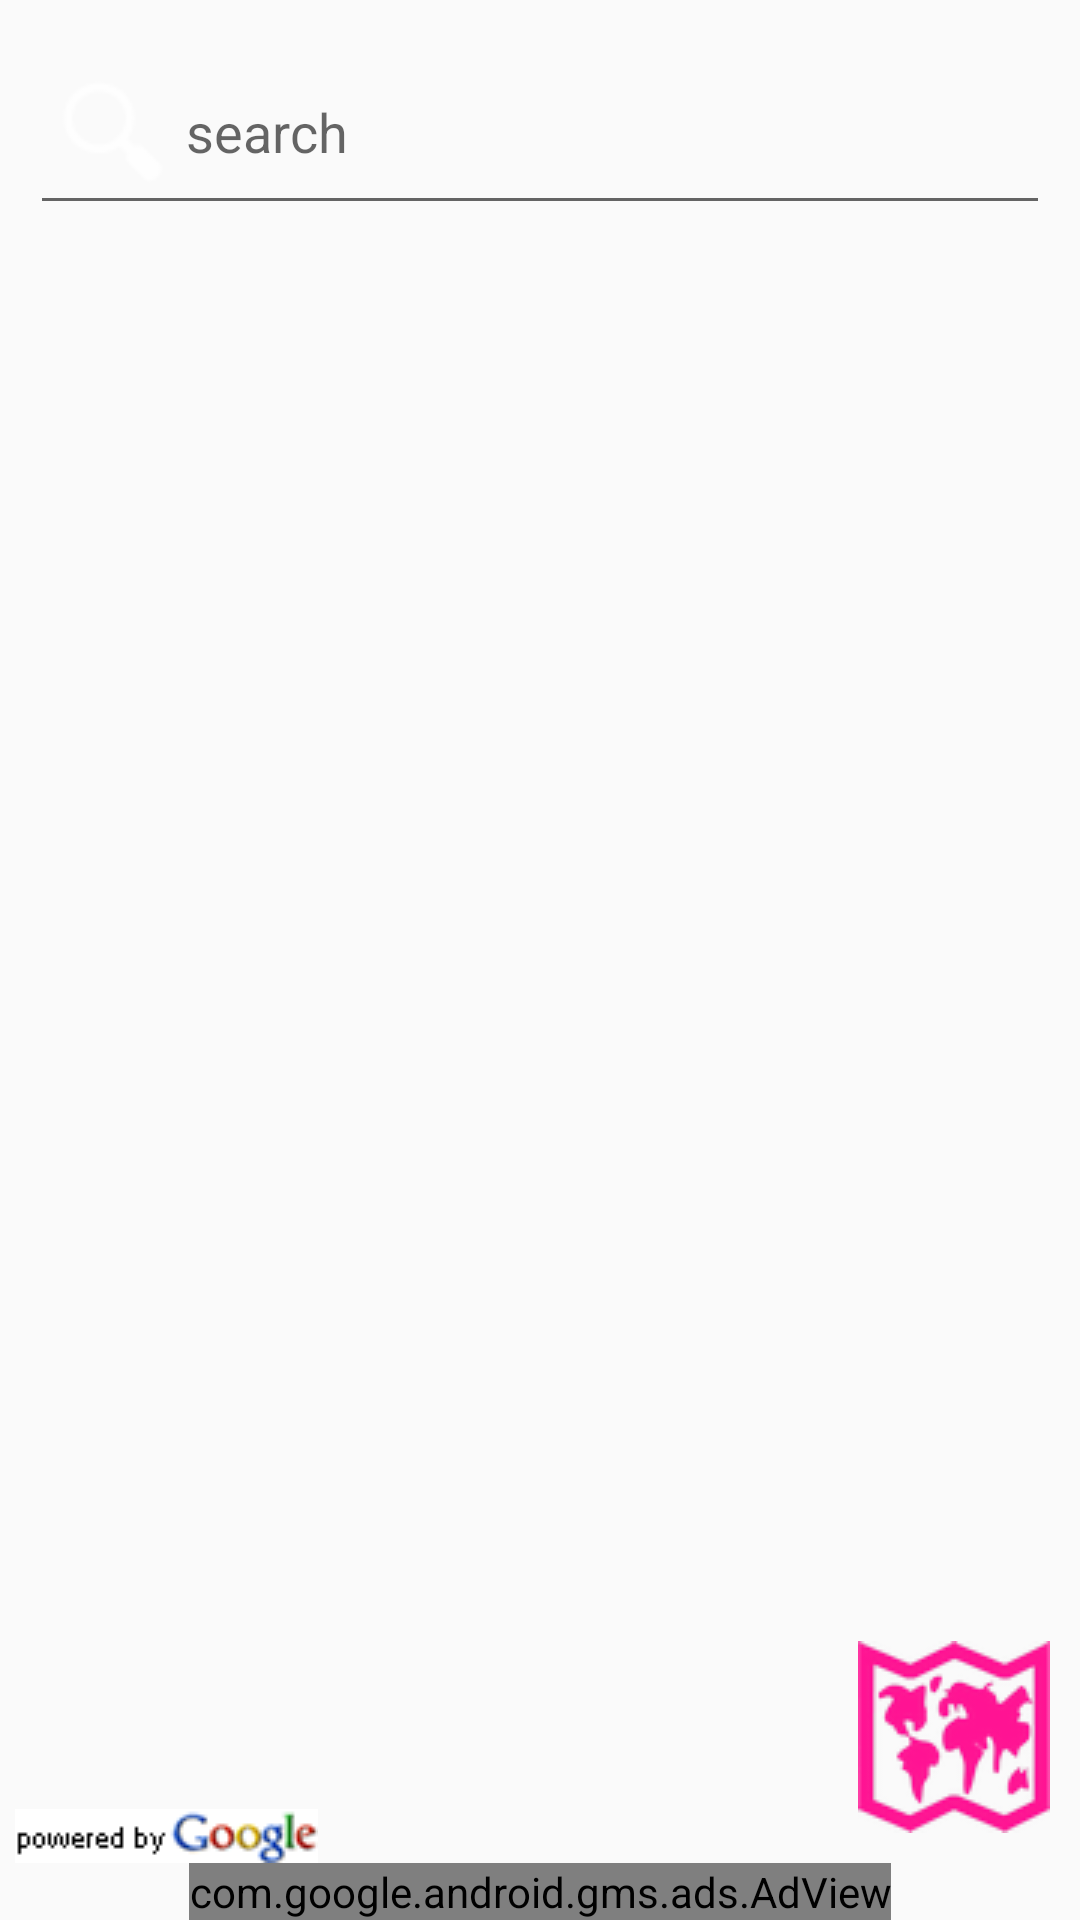

Screen size 1080 x 1920. Icon name, then its center in pixels as [x,y]:
map view: [954,1737]
